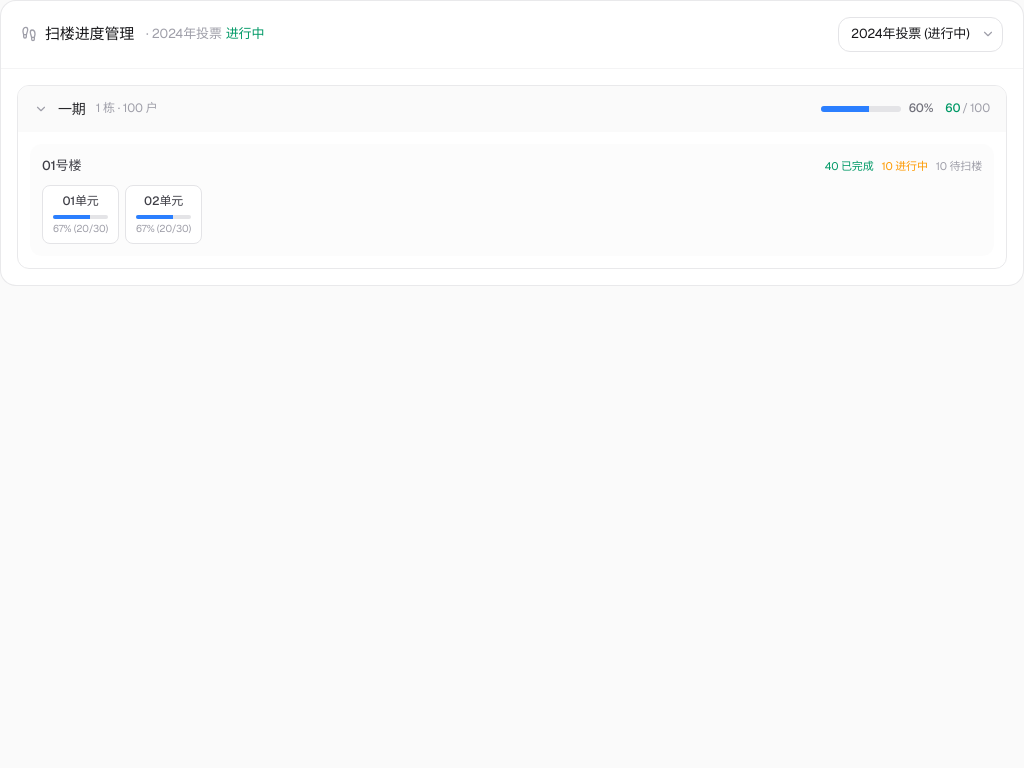
SweepStatusVisualization › 取消批量模式应该清除选择
Click the text "01单元": point(80, 202) [62,192,99,211]
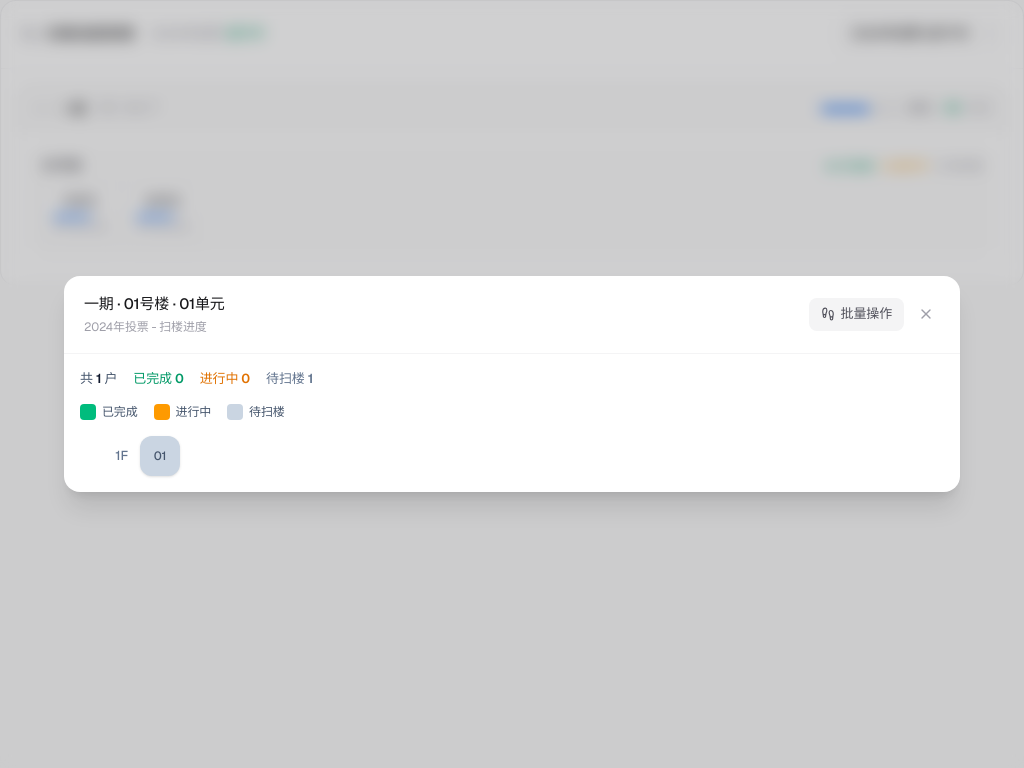
Result: the button "批量操作" is shown
Click the button "批量操作": point(856, 314) [809,298,904,331]
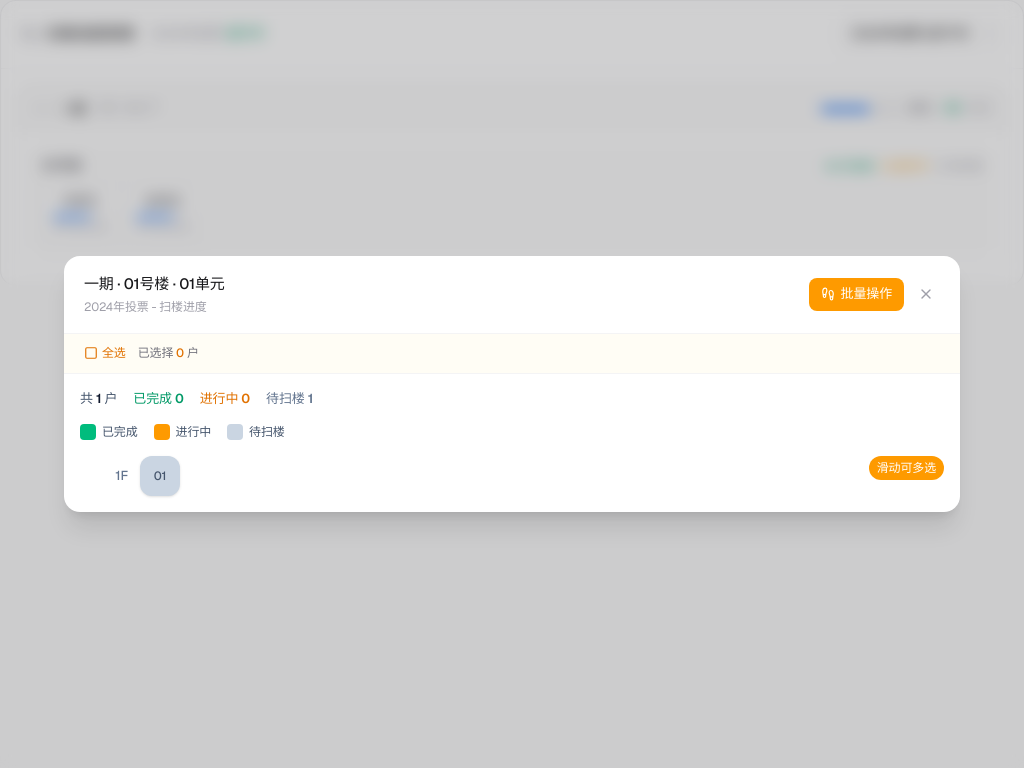
Result: the button "全选" is shown at [84,344,126,363]
Click the button "批量操作": point(856, 294) [809,278,904,310]
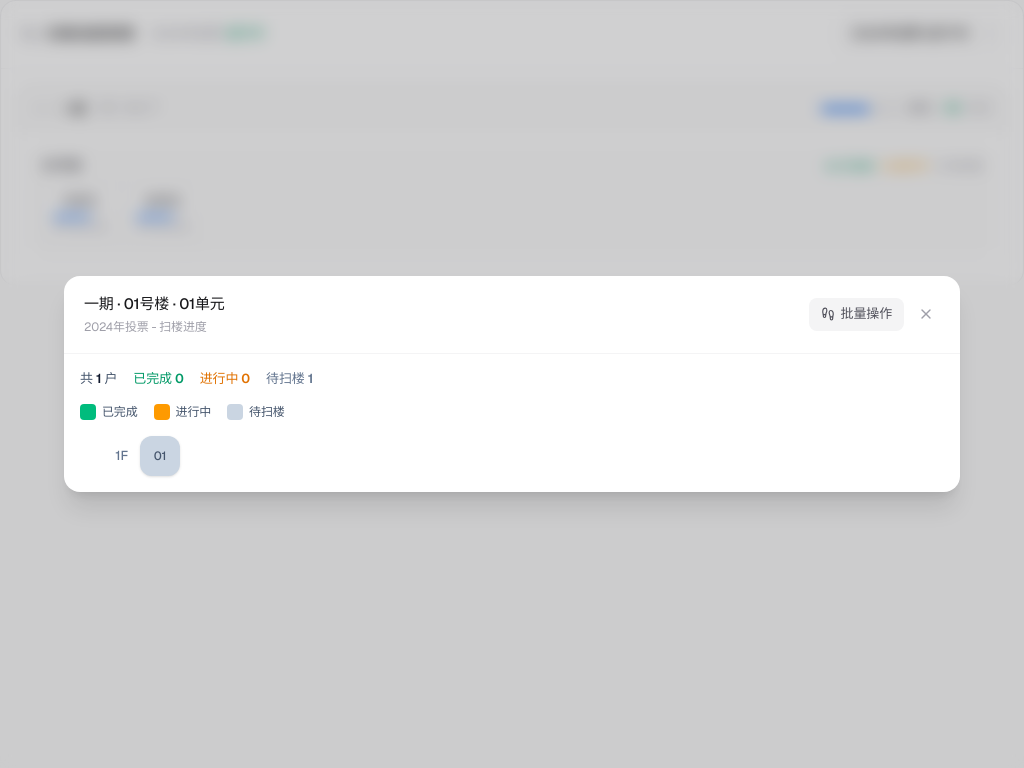
Result: the button "全选" is gone
